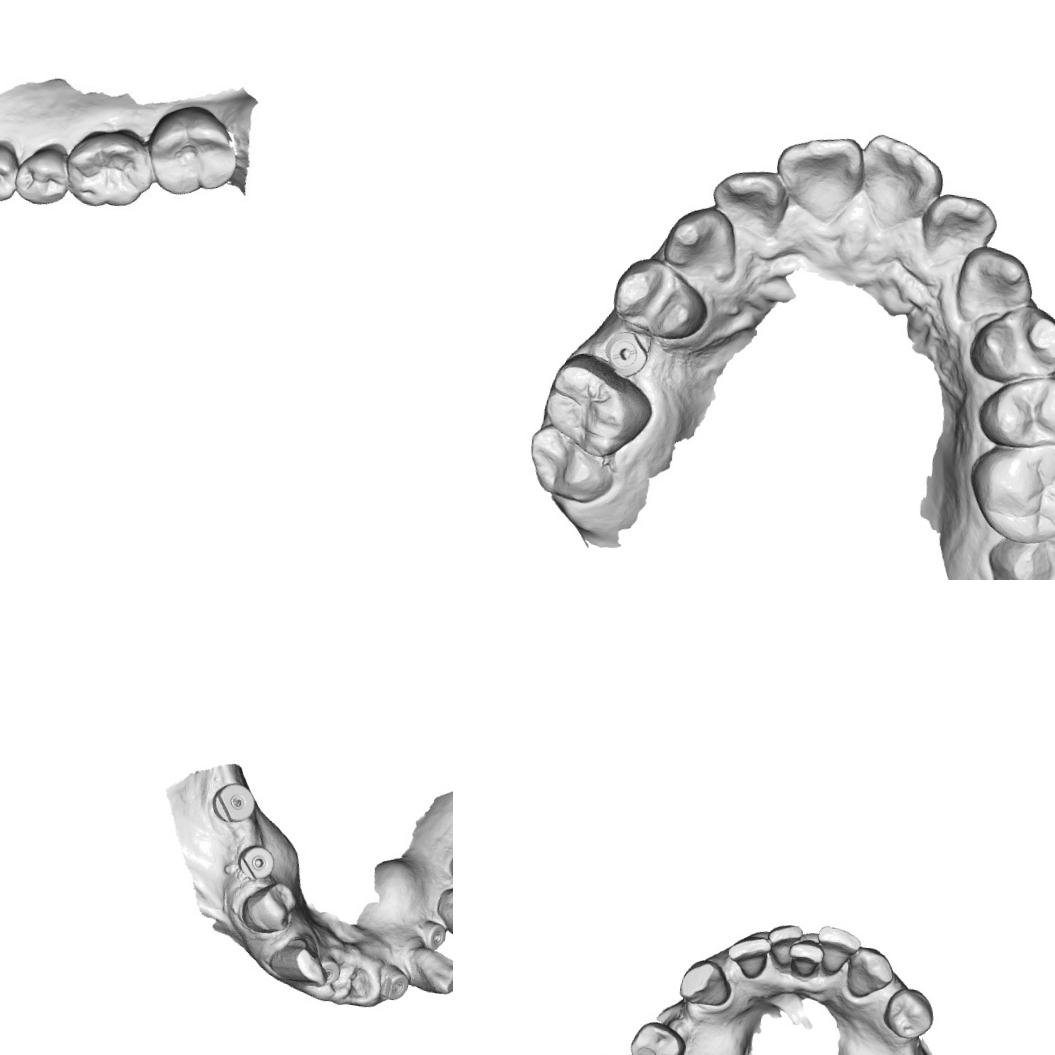canine: (954, 240, 1038, 327), (658, 201, 742, 284), (266, 932, 331, 986), (842, 941, 898, 1002), (675, 954, 733, 1011), (405, 944, 453, 997)
implant: (208, 779, 260, 827), (234, 842, 277, 882), (376, 962, 412, 1004), (418, 918, 450, 954), (316, 952, 344, 988)
implant_minus: (602, 328, 652, 380)
incisor: (855, 128, 948, 234), (774, 132, 864, 224), (923, 188, 1002, 272), (707, 163, 790, 240), (812, 922, 864, 980), (722, 930, 773, 981), (762, 921, 806, 970), (786, 936, 825, 980)
molar: (538, 352, 659, 461), (970, 432, 1055, 546), (522, 421, 618, 507), (150, 108, 242, 194), (71, 128, 155, 210), (983, 518, 1055, 580)
premolar: (605, 255, 712, 345), (968, 299, 1055, 389), (974, 369, 1055, 453), (9, 134, 74, 215), (237, 876, 301, 939), (879, 983, 938, 1043), (625, 1017, 690, 1055), (0, 131, 24, 206), (431, 883, 453, 945)
